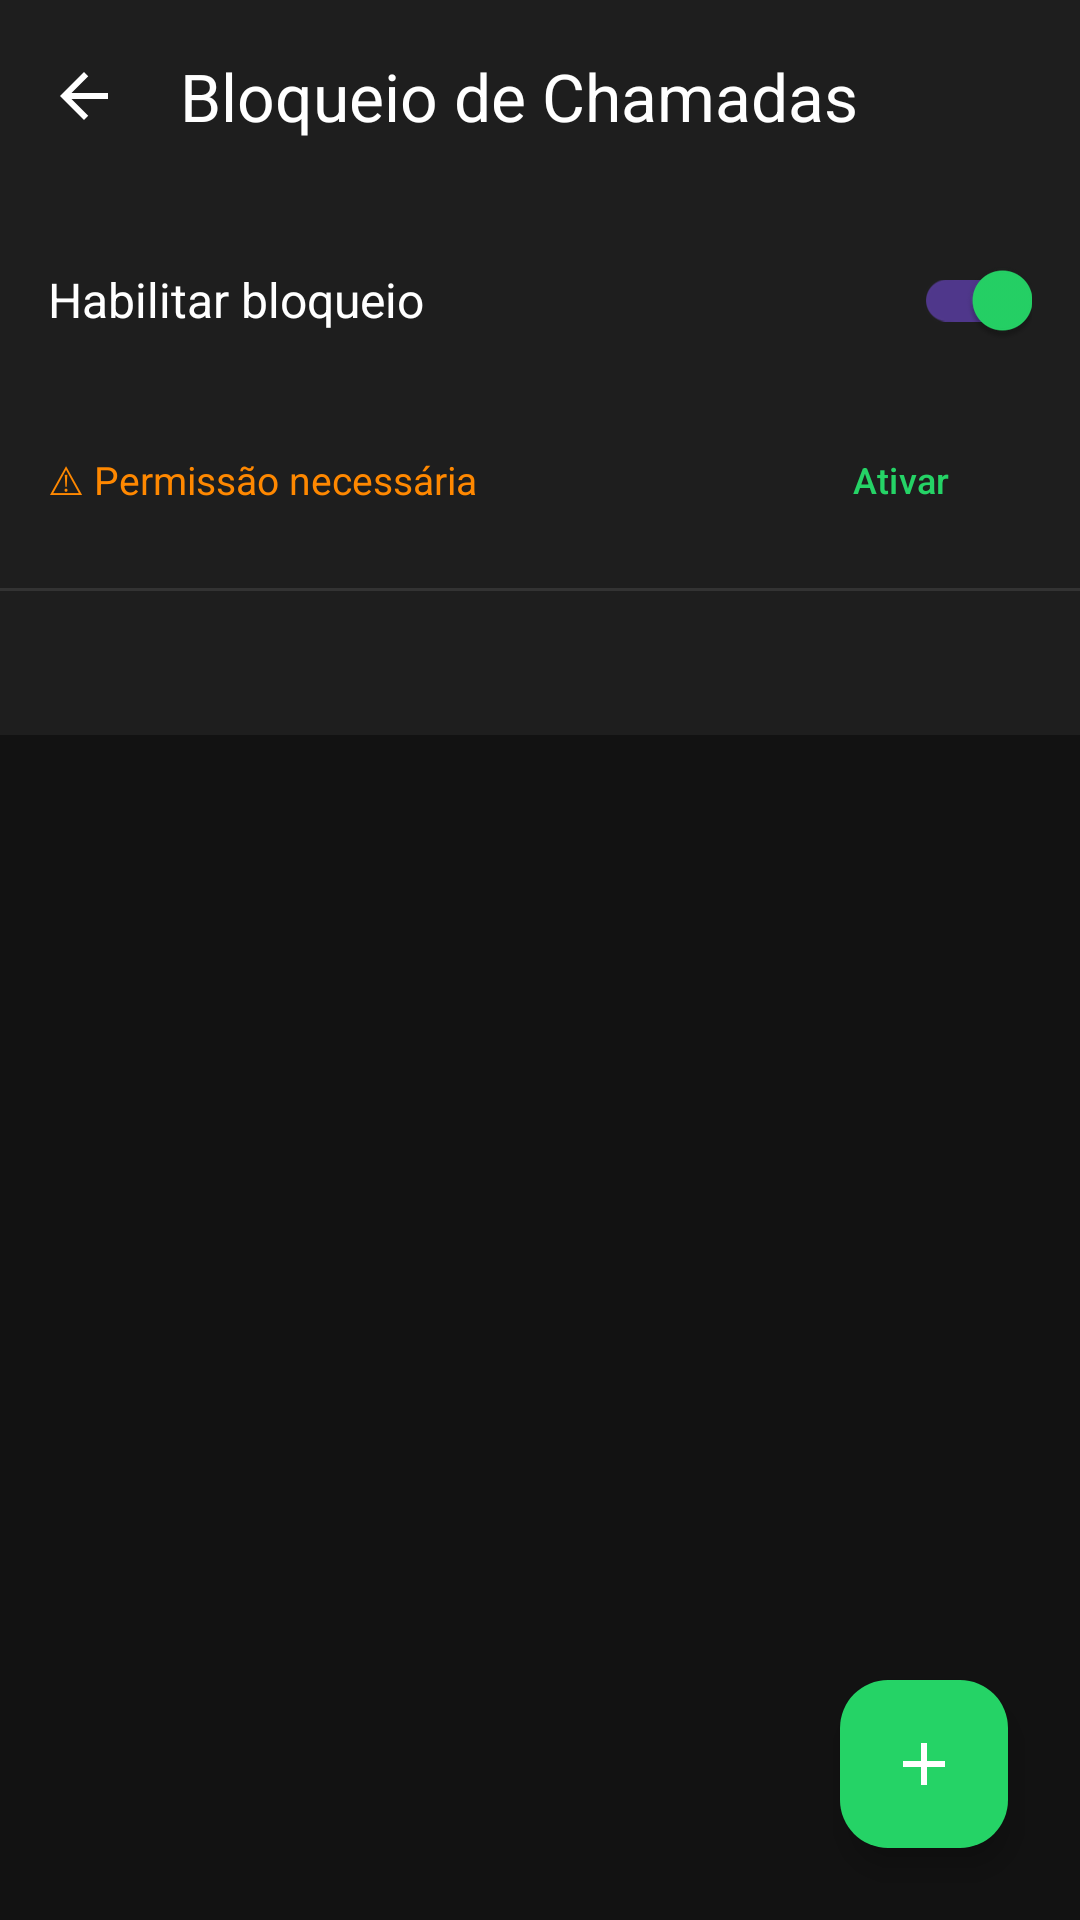

Point at icon controls on the screen. Image size 1080*1920, points as (x=x, y=y).
Adicionar número: (x=924, y=1764)
